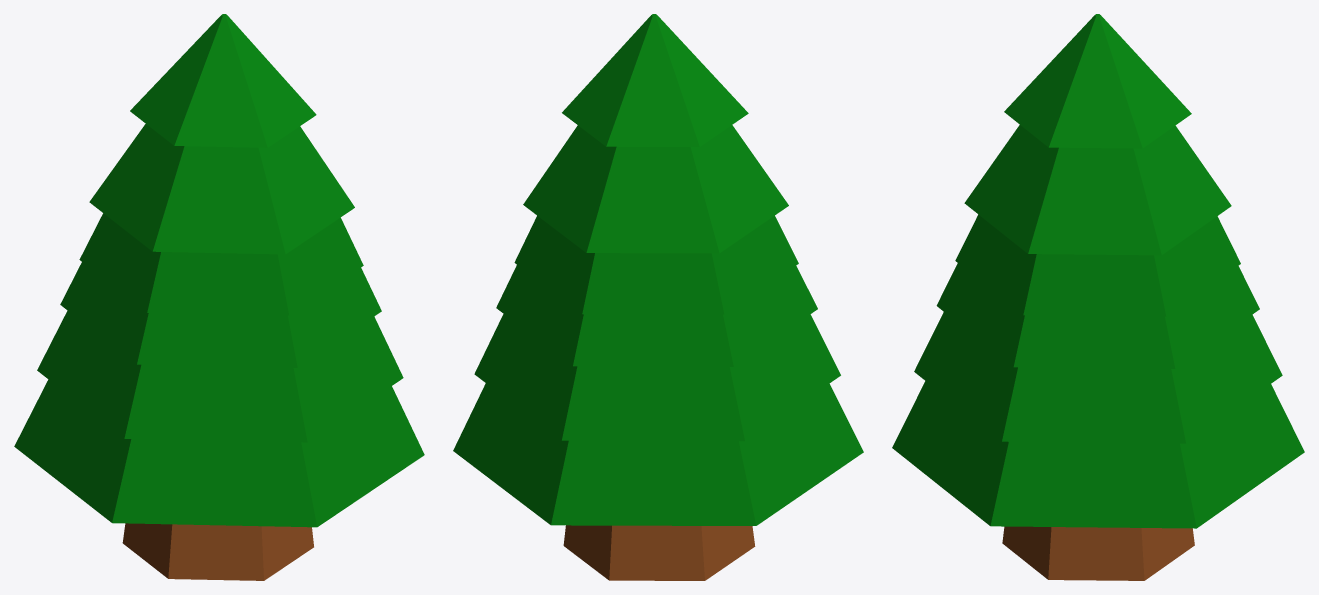
The model's file is tree1.glb.
3 renders of one model, left to right at view 1: azimuth 30°, elevation 25°; view 2: azimuth 150°, elevation 25°; view 3: azimuth 270°, elevation 25°, orthographic.
Parts seen in each view (by area): view 1: Tree2; view 2: Tree2; view 3: Tree2.
Boxes of the visible parts, left/top/right/bottom form: Tree2: left=14, top=14, right=424, bottom=580; Tree2: left=453, top=14, right=863, bottom=580; Tree2: left=892, top=14, right=1304, bottom=580.
Size of the model in its own units: 3.77 by 6.1 by 4.29.
